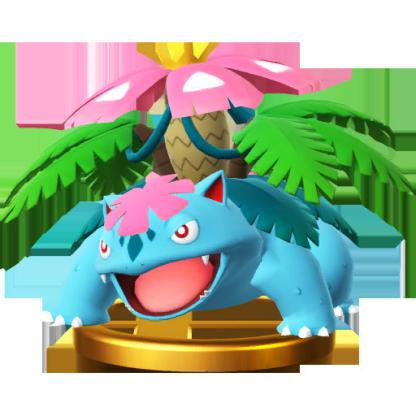Venusaur: (1, 56, 416, 366)
